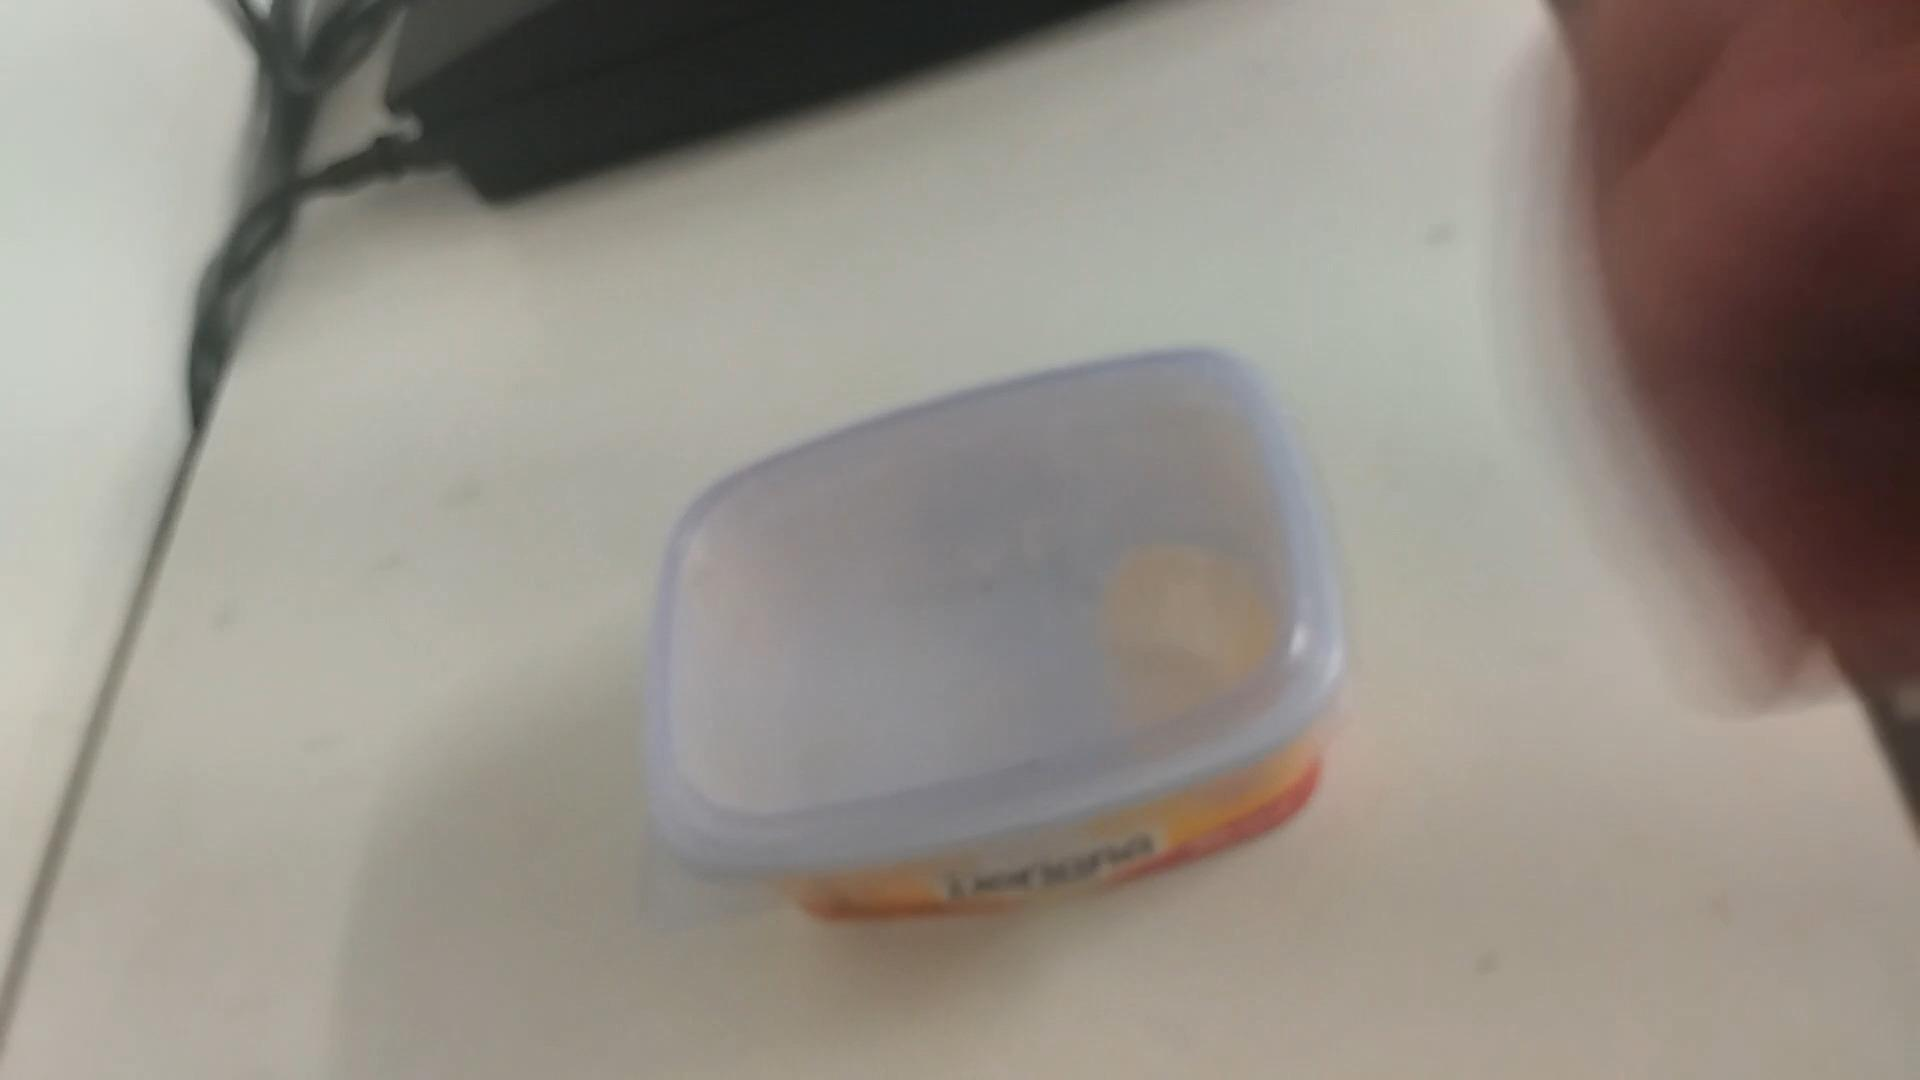butter: (641, 342, 1355, 926)
